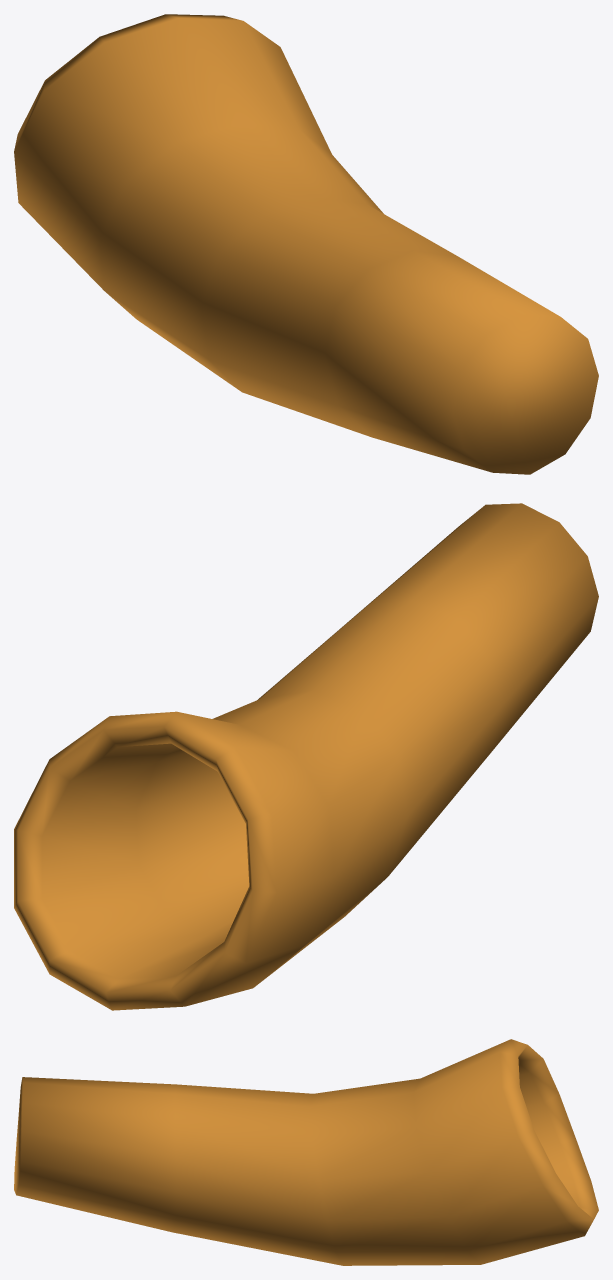
The model's file is coral01a.fbx.
3 renders of one model, top to bottom at view 1: azimuth 30°, elevation 25°; view 2: azimuth 150°, elevation 25°; view 3: azimuth 270°, elevation 25°, orthographic. The views are drawn at different scales.
Visible parts, largest first — view 1: Coral01a; view 2: Coral01a; view 3: Coral01a.
Part boxes in pixels (bbox=[...]): Coral01a: bbox=[14, 14, 598, 474]; Coral01a: bbox=[14, 503, 598, 1010]; Coral01a: bbox=[14, 1039, 598, 1265].
Size of the model in its own units: 182 by 195 by 504.
